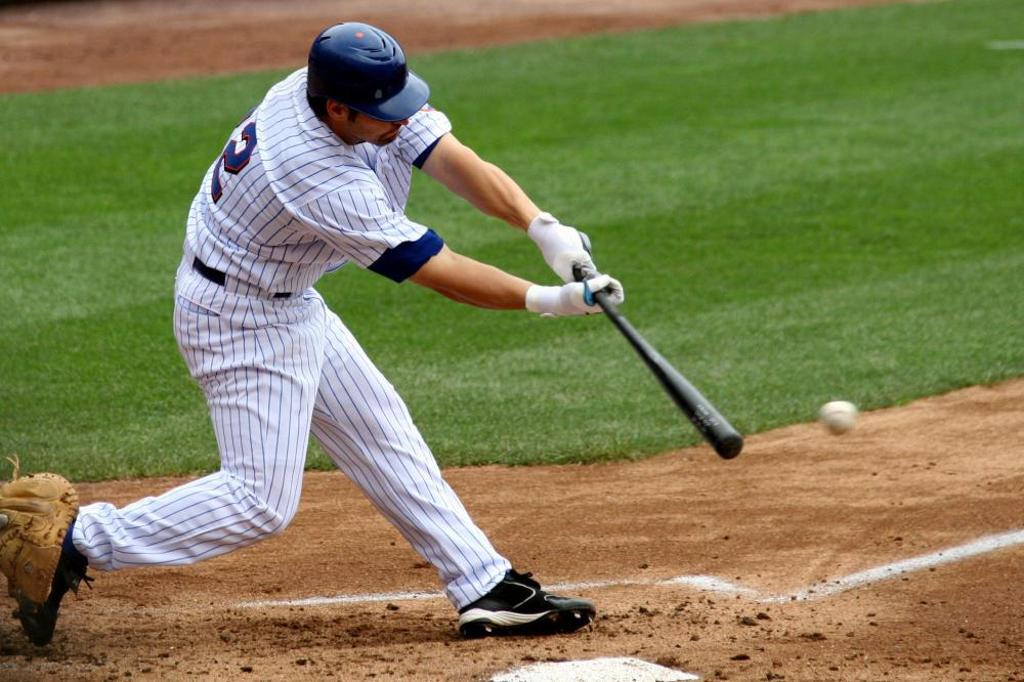face: (345, 83, 410, 145)
